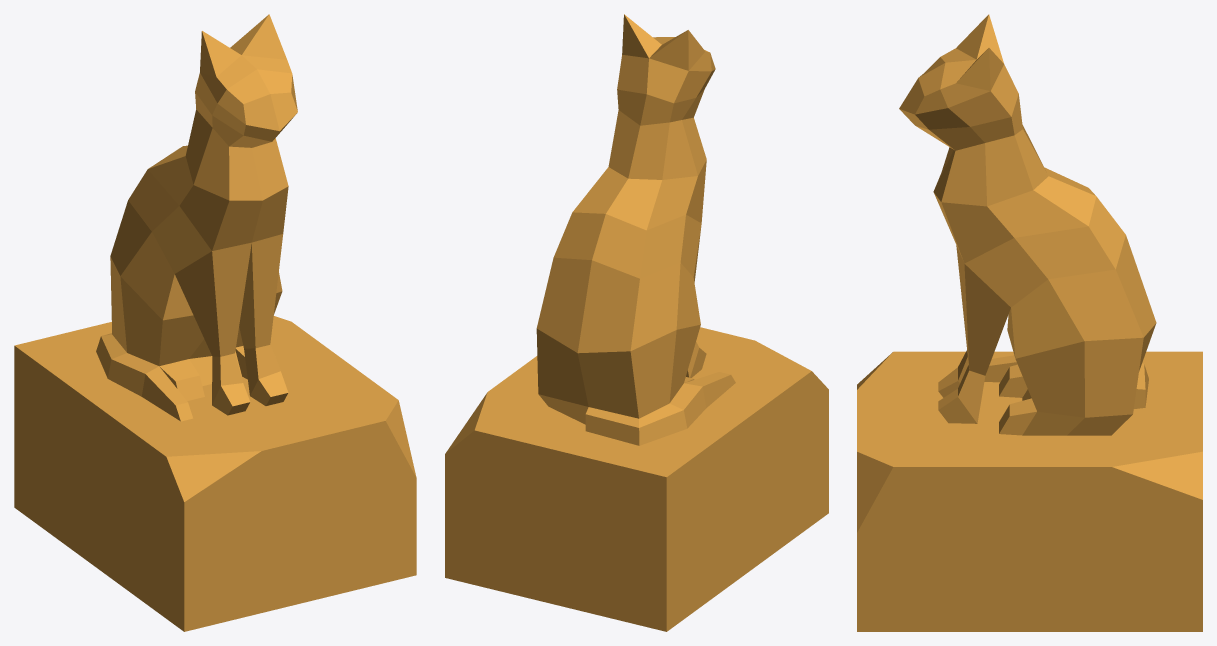
File: egypt-statue-cat.fbx
3 renders of one model, left to right at view 1: azimuth 30°, elevation 25°; view 2: azimuth 150°, elevation 25°; view 3: azimuth 270°, elevation 25°, orthographic. The views are drawn at different scales.
Visible parts, largest first — view 1: egypt-statue-cat; view 2: egypt-statue-cat; view 3: egypt-statue-cat.
Part boxes in pixels (x1,y1,x2,y2): egypt-statue-cat: (14, 14, 416, 631); egypt-statue-cat: (445, 14, 828, 631); egypt-statue-cat: (857, 14, 1202, 631).
Size of the model in its own units: 2.7 by 5.93 by 3.42.
